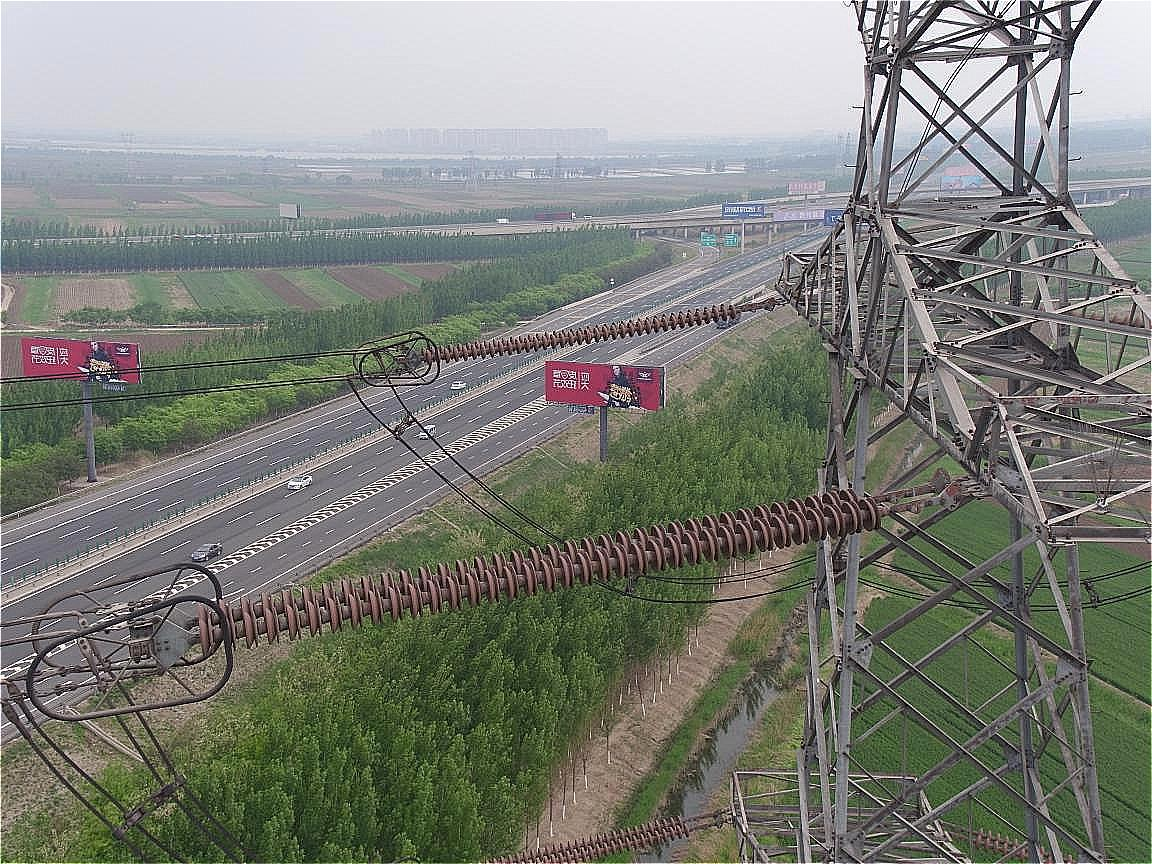insultor1: (408, 288, 753, 387)
insultor2: (189, 477, 911, 661)
